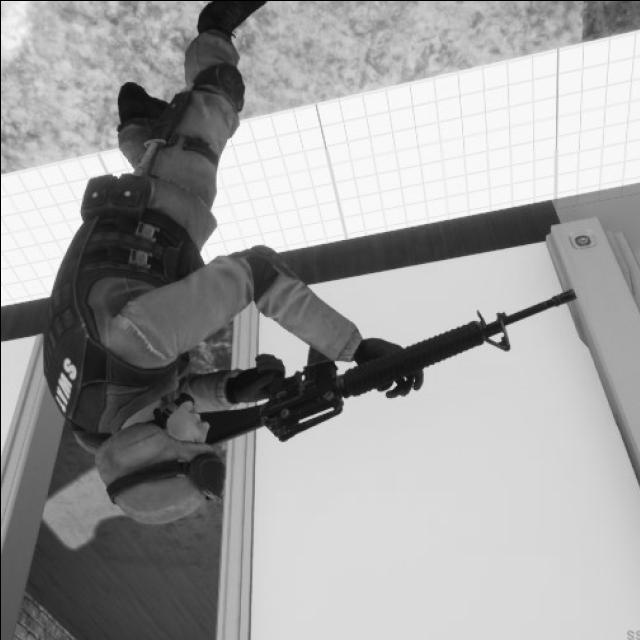rifle: (200, 256, 586, 459)
